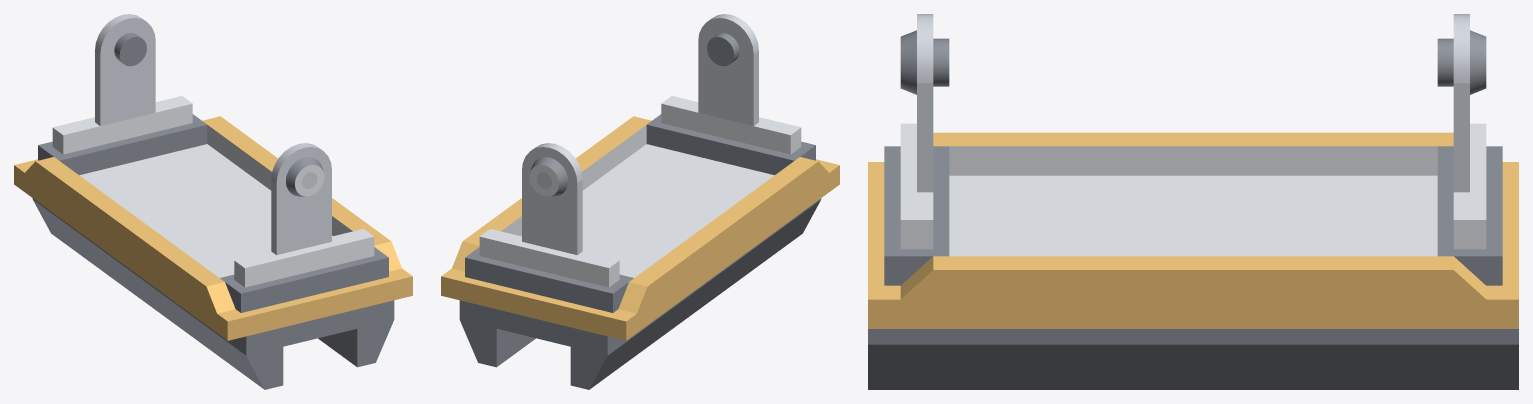
File: monorail_traincargo_lev1.glb
The picture shows the model from 3 angles, left to right: view 1: azimuth 30°, elevation 25°; view 2: azimuth 150°, elevation 25°; view 3: azimuth 270°, elevation 25°; orthographic projection. The views are drawn at different scales.
Visible parts, largest first — view 1: monorail_traincargo_lev1; view 2: monorail_traincargo_lev1; view 3: monorail_traincargo_lev1.
Part boxes in pixels (bbox=[...]): monorail_traincargo_lev1: bbox=[14, 14, 412, 389]; monorail_traincargo_lev1: bbox=[441, 14, 839, 389]; monorail_traincargo_lev1: bbox=[868, 14, 1518, 389].
Bounding box in the file's own units: 0.5 × 0.5602 × 1.
